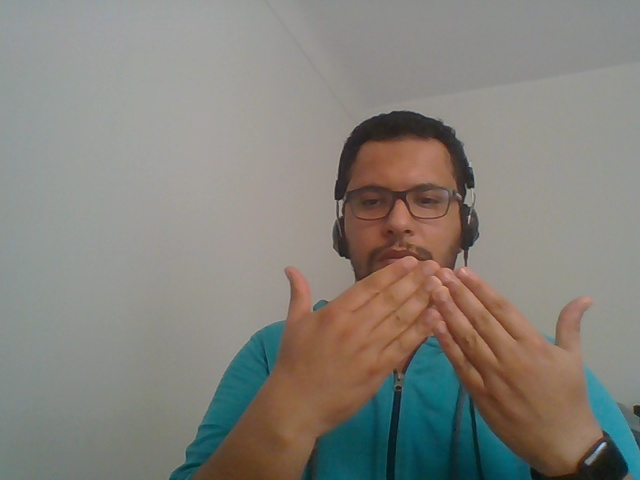thanks: (185, 238, 613, 477)
